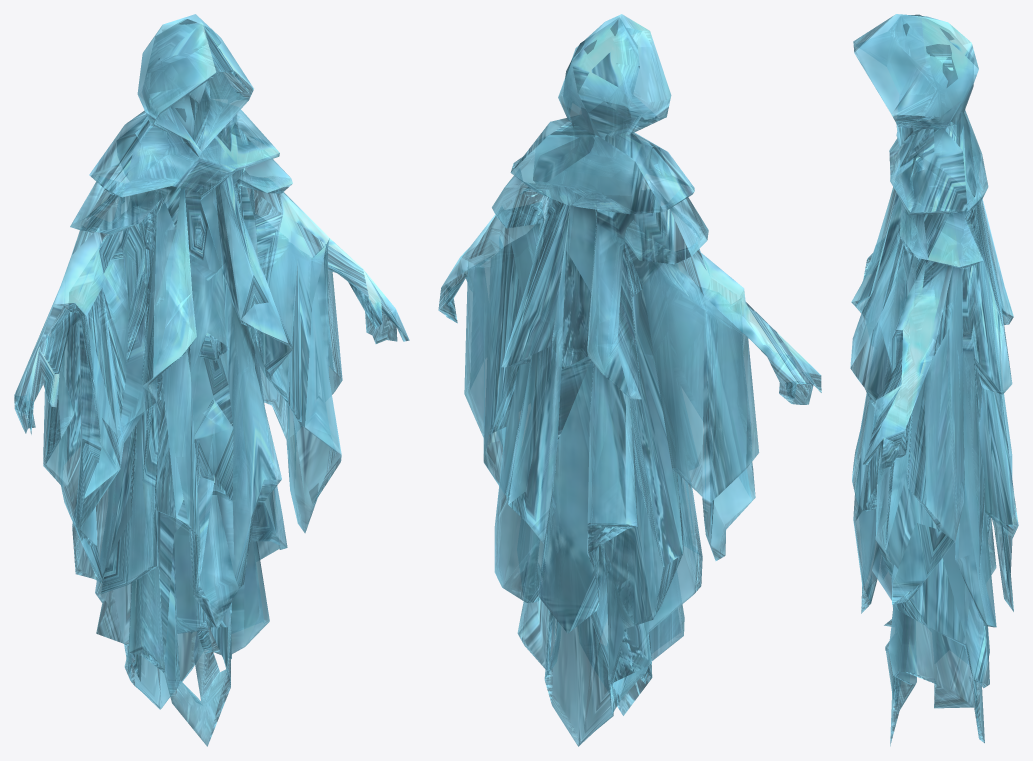
Rendered from spectral_echo.glb.
3 views of the same model, side by side, from view 1: azimuth 30°, elevation 25°; view 2: azimuth 150°, elevation 25°; view 3: azimuth 270°, elevation 25° (orthographic). The views are drawn at different scales.
Visible parts, largest first — view 1: spectral_echo; view 2: spectral_echo; view 3: spectral_echo.
Boxes of the visible parts, bbox=[...] form: spectral_echo: bbox=[14, 14, 409, 746]; spectral_echo: bbox=[438, 14, 821, 746]; spectral_echo: bbox=[850, 14, 1018, 746].
Bounding box in the file's own units: 1.21 × 2.19 × 0.4571.
1 material, 1 textured.
